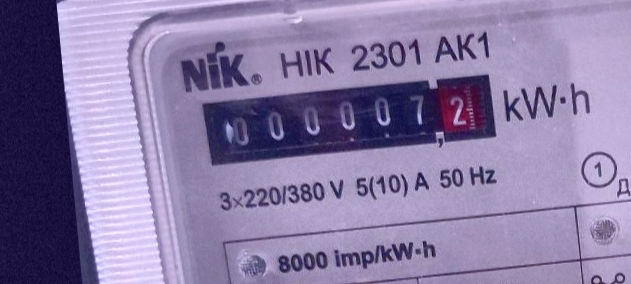0: (299, 99, 325, 139), (336, 96, 360, 135), (228, 111, 253, 148), (370, 91, 394, 129), (265, 106, 288, 142)
2: (446, 91, 471, 129)
7: (406, 89, 430, 128)
screen: (196, 65, 506, 172)
